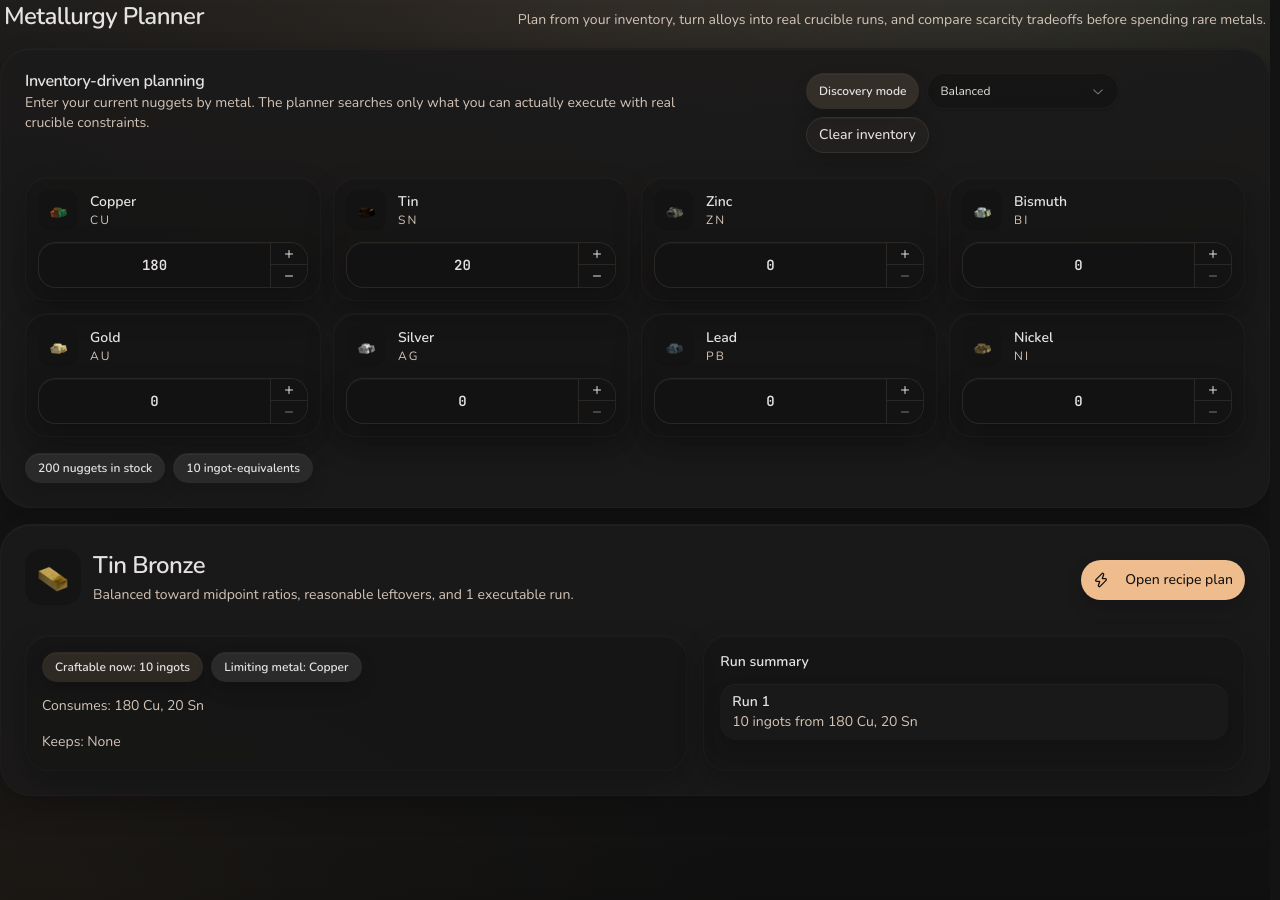
Test: PlannerView › renders craftable recipes and expands a recipe plan
Expected: the heading "Tin Bronze" is shown, [93,549,205,581]
Click the button "Open recipe plan".
click(1163, 580)  # box [1081,560,1245,600]
(page scrolled)
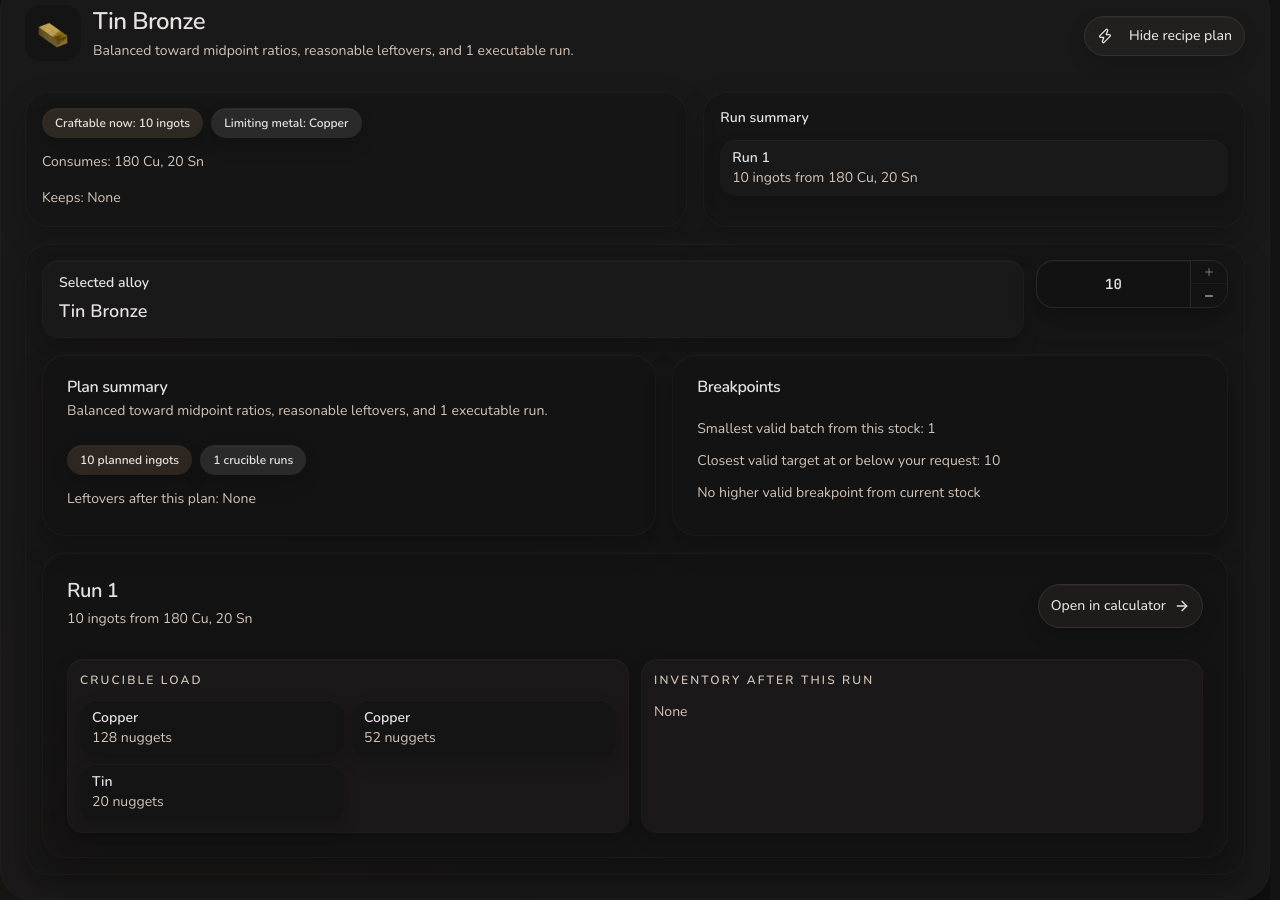
Expected: the number field named "requested ingot count" is shown, [1037,261,1190,307]
Expected: the link "Open in calculator" is shown, [1038,584,1203,628]
